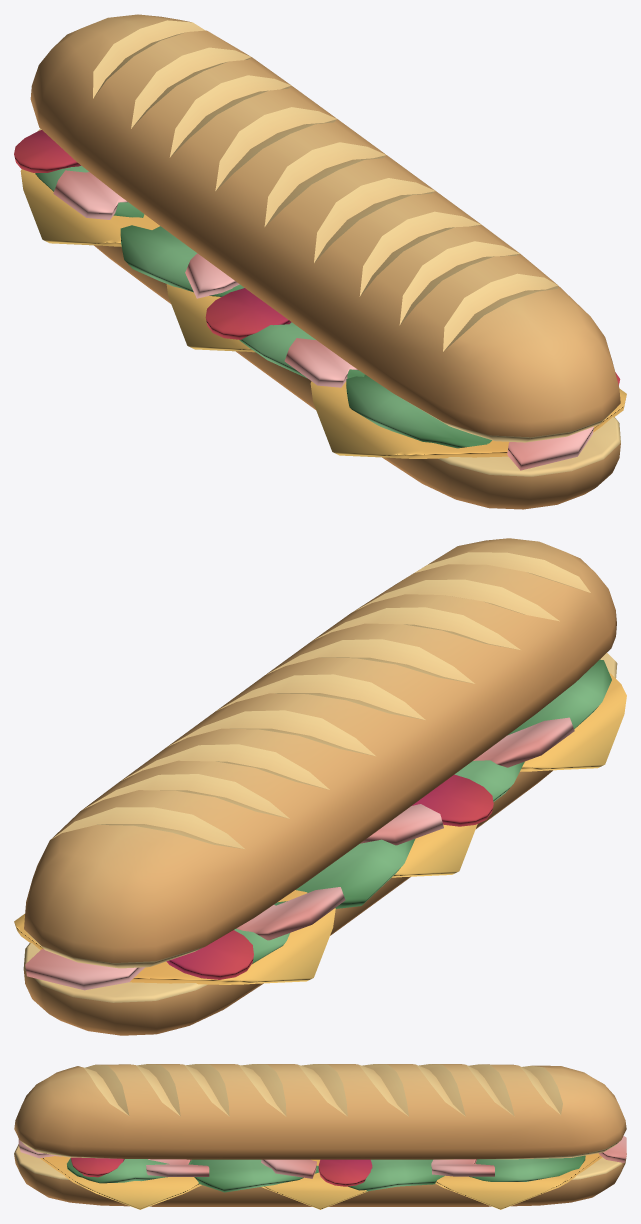
The model's file is SM_Baguette.fbx.
The picture shows the model from 3 angles, top to bottom: view 1: azimuth 30°, elevation 25°; view 2: azimuth 150°, elevation 25°; view 3: azimuth 270°, elevation 25°; orthographic projection. The views are drawn at different scales.
Parts seen in each view (by area): view 1: SM_Baguette; view 2: SM_Baguette; view 3: SM_Baguette.
Boxes of the visible parts, bbox=[...] form: SM_Baguette: bbox=[14, 14, 626, 509]; SM_Baguette: bbox=[14, 538, 626, 1035]; SM_Baguette: bbox=[14, 1064, 626, 1209].
Bounding box in the file's own units: 73.34 × 47.41 × 224.
